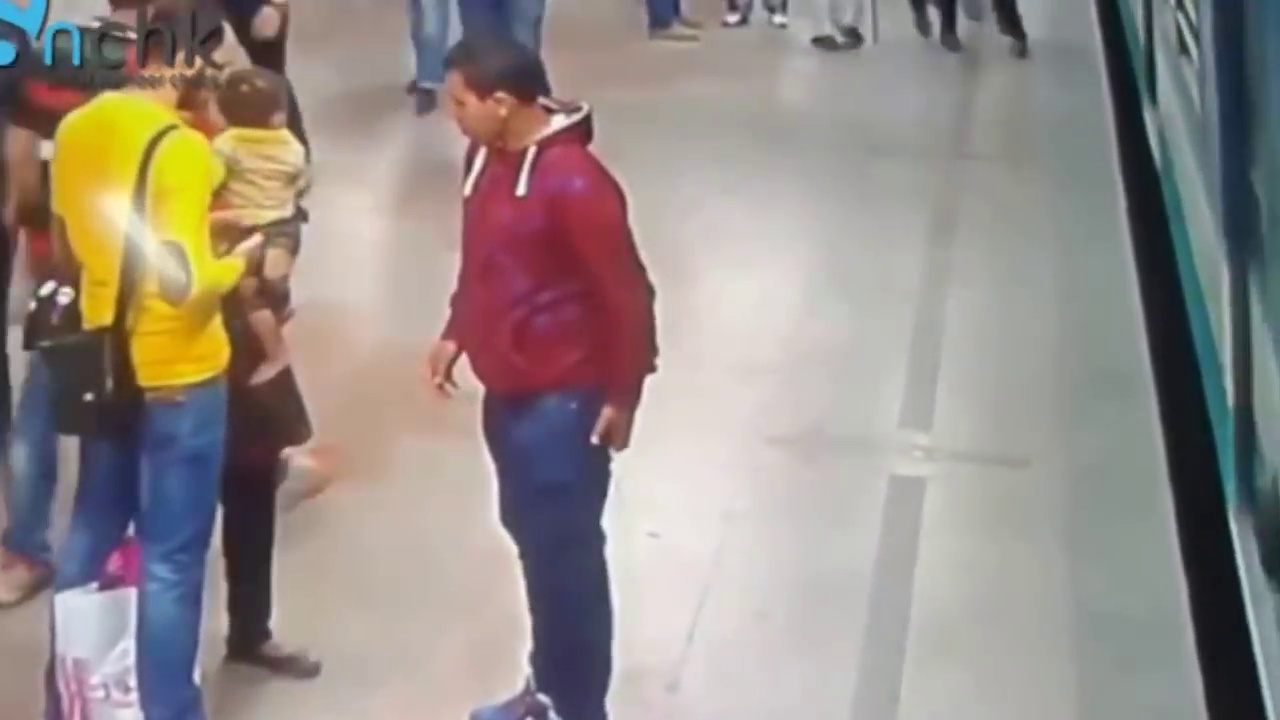face: (442, 65, 492, 144)
